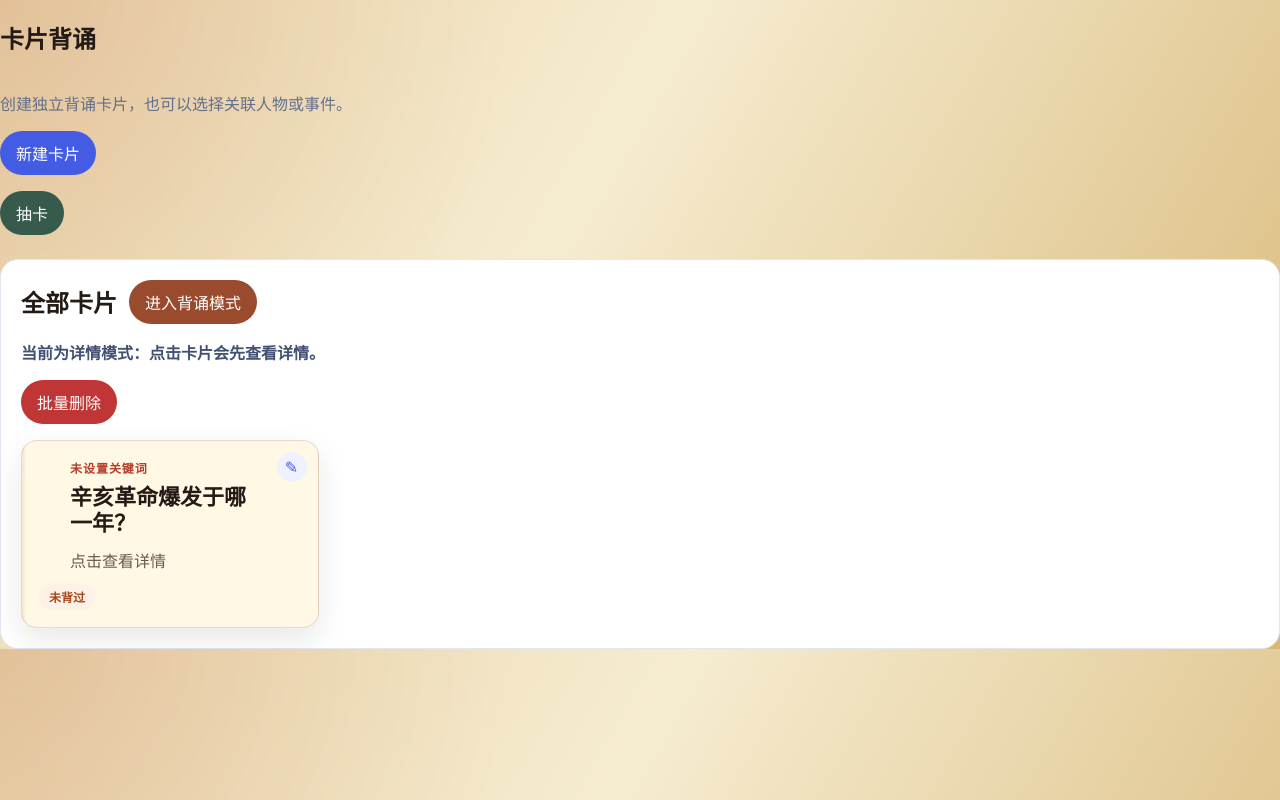
FlashcardPage › discards unsaved card edit changes when closing the editor
Click the button with class "edit-card-button". click: x=292, y=467
box: [276,452,306,482]
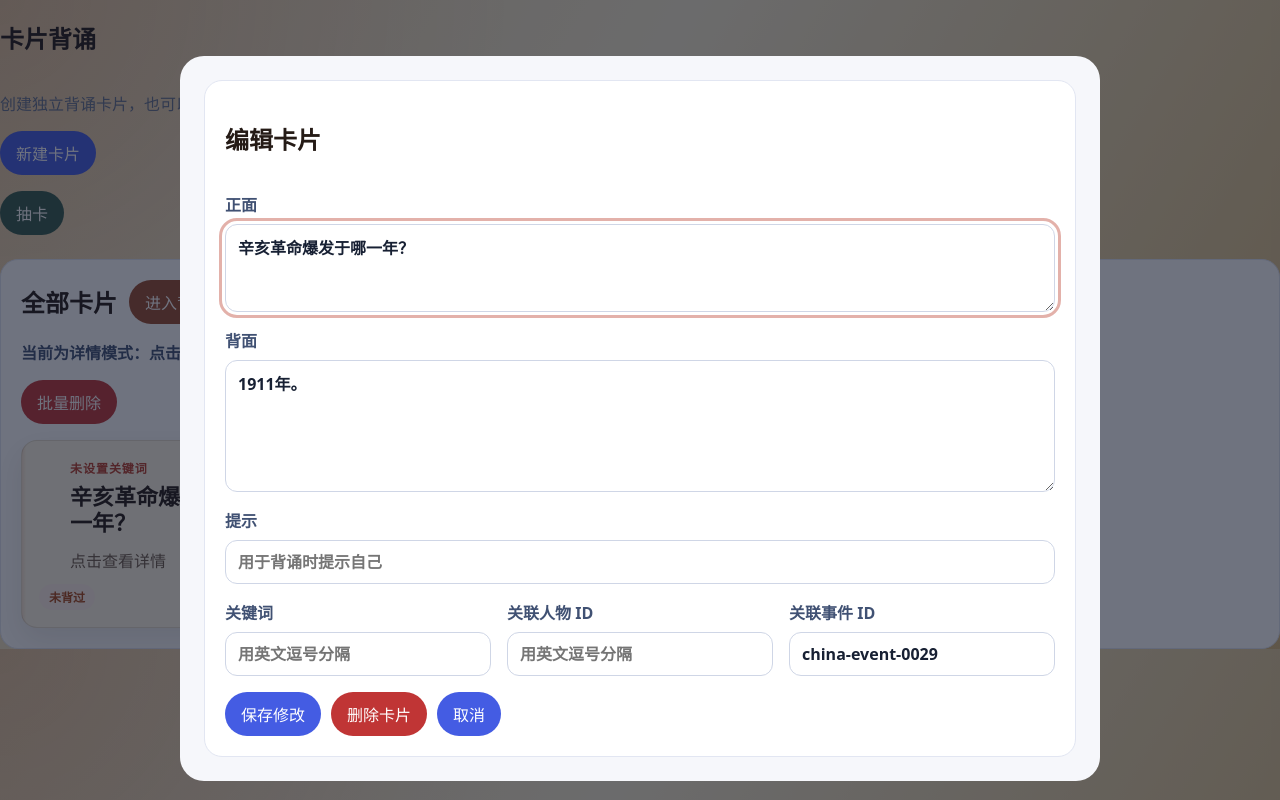
Clear the field with placeholder "用英文逗号分隔". click: x=922, y=654
box: [789,632,1055,676]
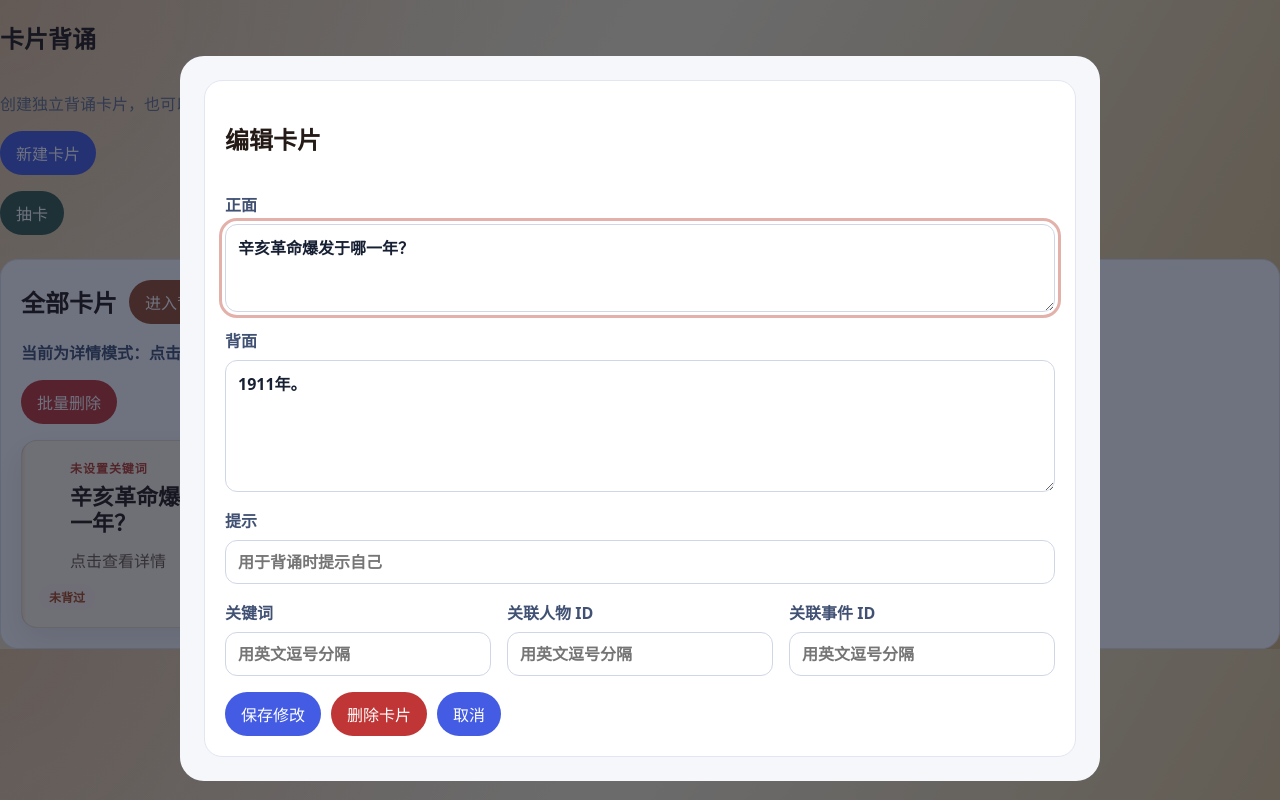
Click the button "取消". click: x=469, y=714
box: [437,692,501,736]
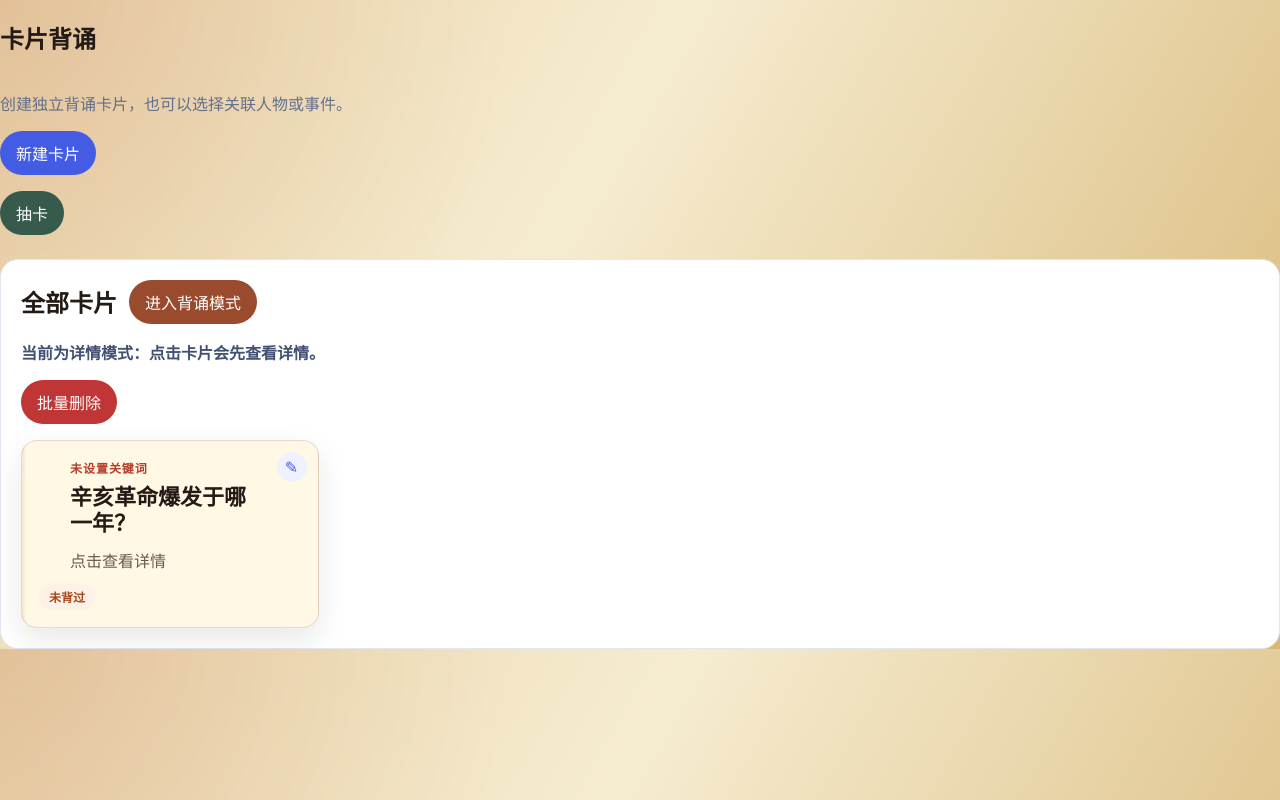
Click the button with class "edit-card-button". click: x=292, y=467
box: [276,452,306,482]
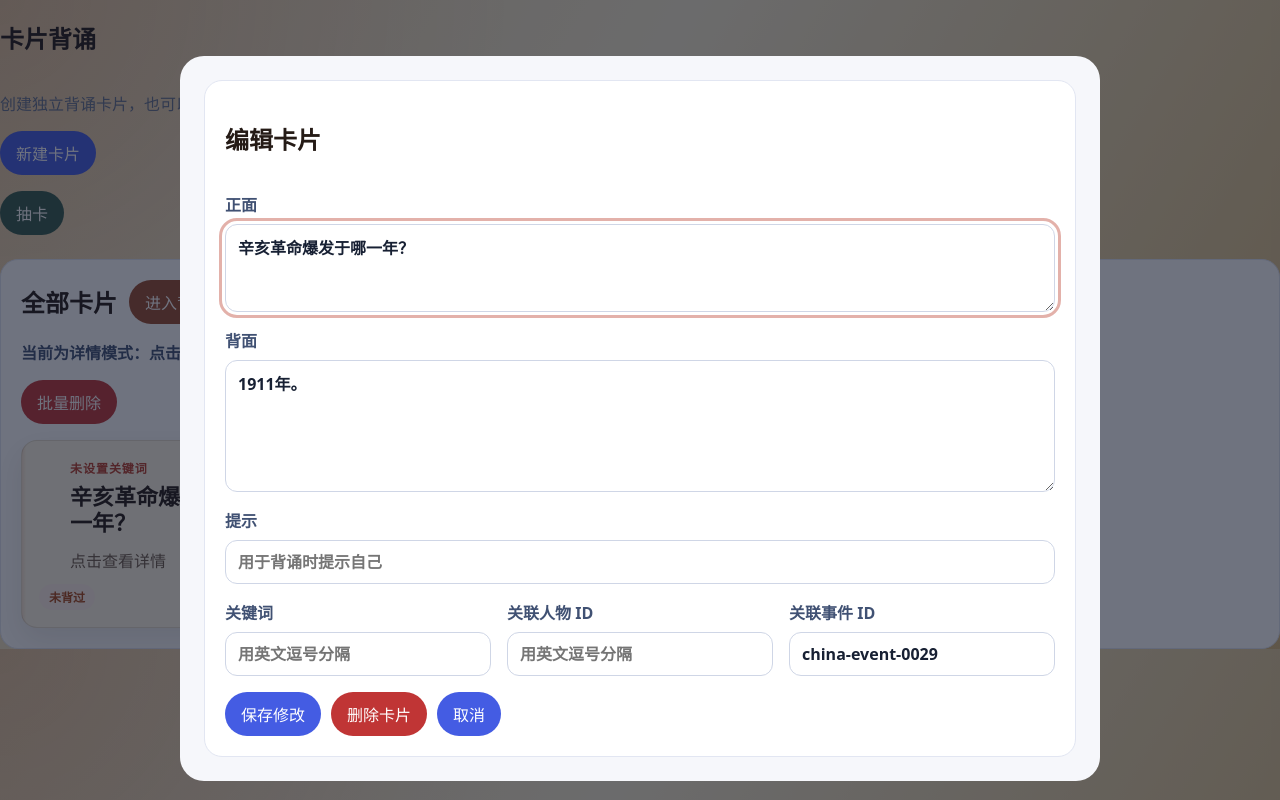
Check: the dialog named "编辑卡片" shows "编辑卡片", box [225,123,321,156]
Check: the field with placeholder "用英文逗号分隔" holds "china-event-0029", box [789,632,1055,676]
